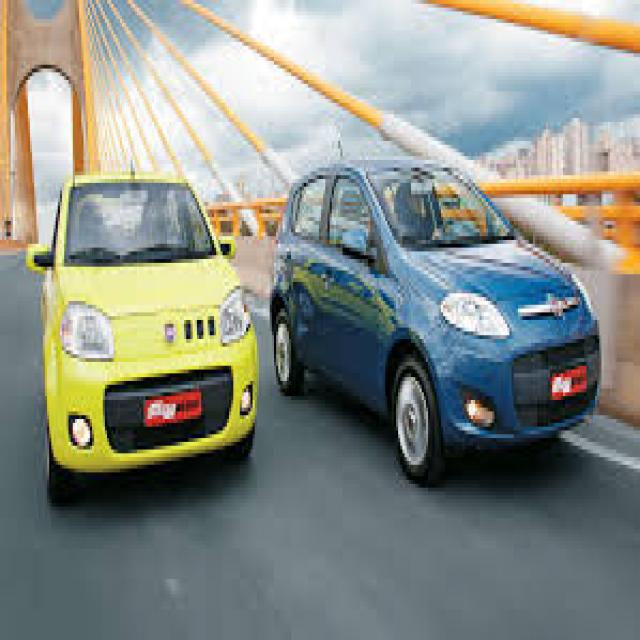car: (268, 133, 616, 507), (20, 144, 260, 505)
